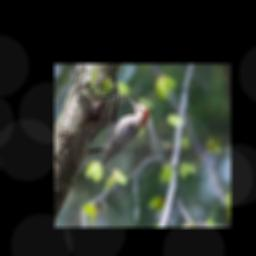Woodpecker: (86, 97, 148, 164)
